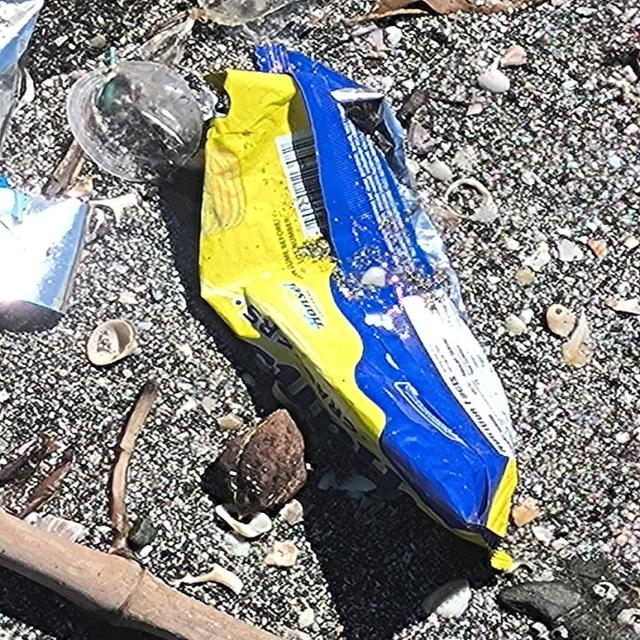plastic_waste: (201, 45, 517, 575)
